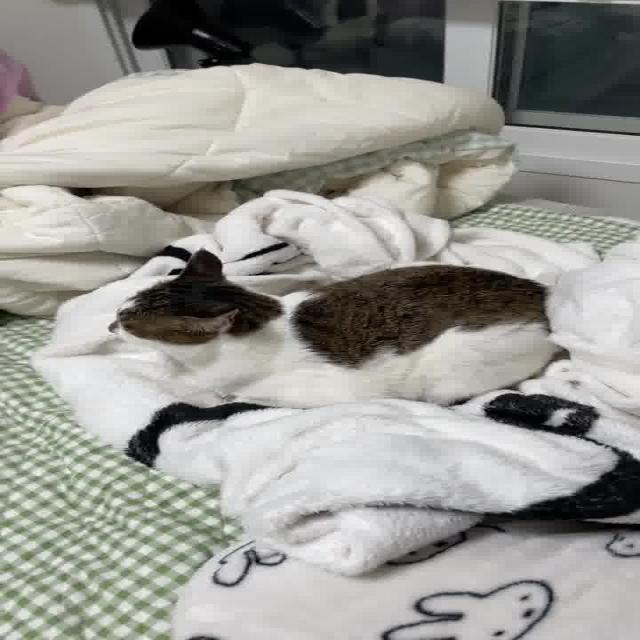cat: (76, 243, 579, 414)
